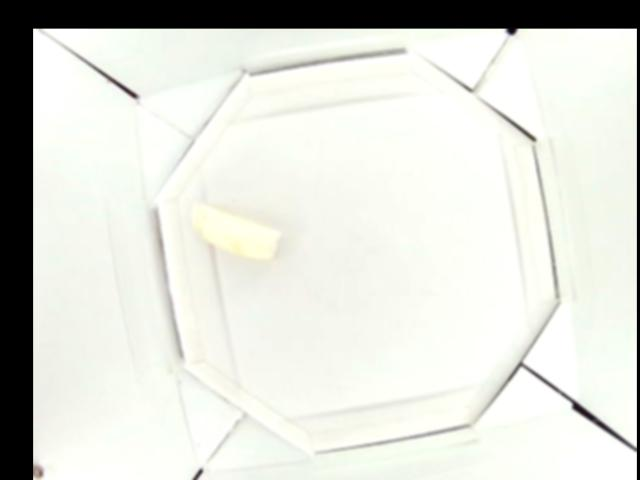Mooli: (191, 199, 280, 262)
